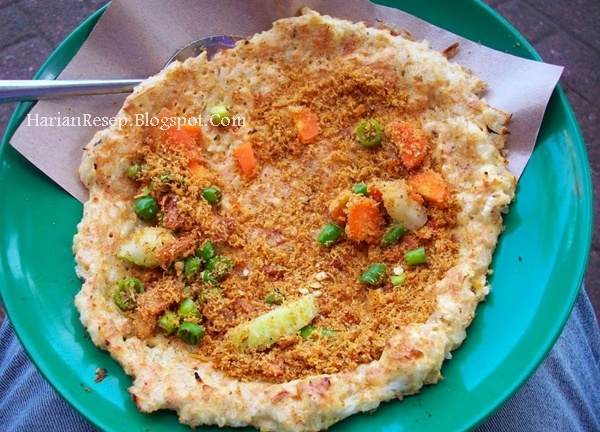kerak_telor: (77, 18, 505, 432)
